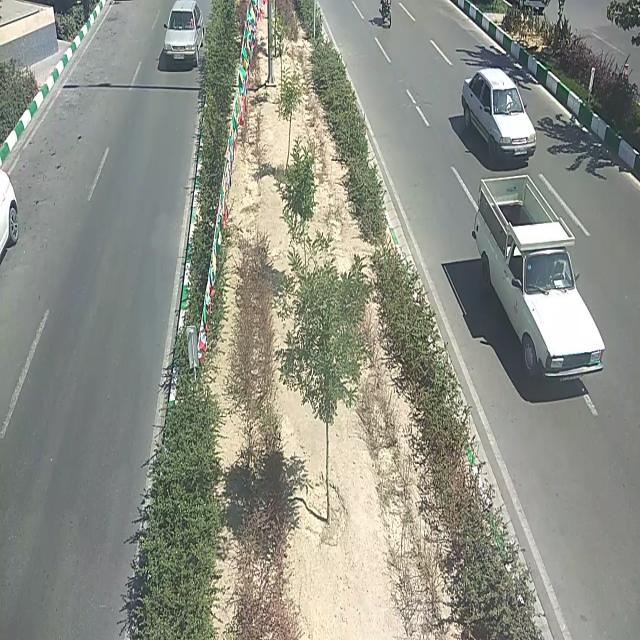car: (473, 173, 605, 379), (463, 70, 535, 158), (162, 1, 206, 70), (0, 165, 17, 266)
